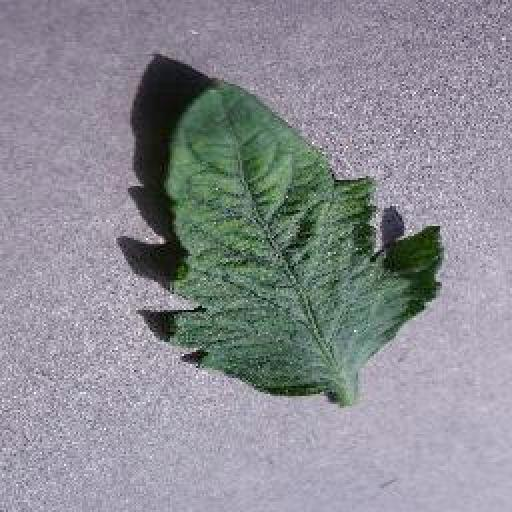disease_tomato: (162, 77, 446, 399)
